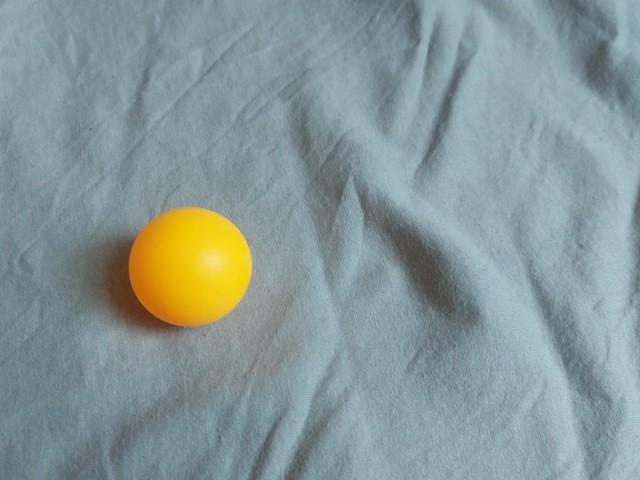oball: (119, 200, 259, 335)
